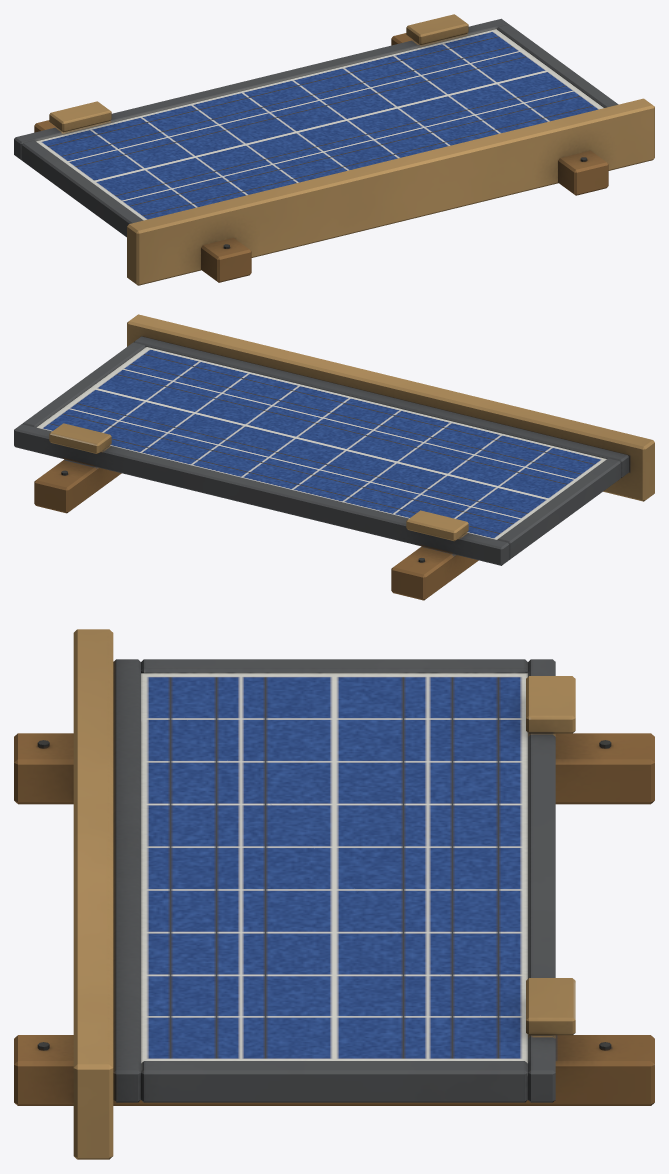
Rendered from RenewableEnergy_SolarWallWood.fbx.
3 renders of one model, top to bottom at view 1: azimuth 30°, elevation 25°; view 2: azimuth 150°, elevation 25°; view 3: azimuth 270°, elevation 25°, orthographic. The views are drawn at different scales.
Parts seen in each view (by area): view 1: SolarWallWood; view 2: SolarWallWood; view 3: SolarWallWood.
Part boxes in pixels (x1,y1,x2,y2): SolarWallWood: (14,14,654,285); SolarWallWood: (14,314,654,600); SolarWallWood: (14,629,654,1159).
Bounding box in the file's own units: 1.05 × 0.106 × 0.646.
